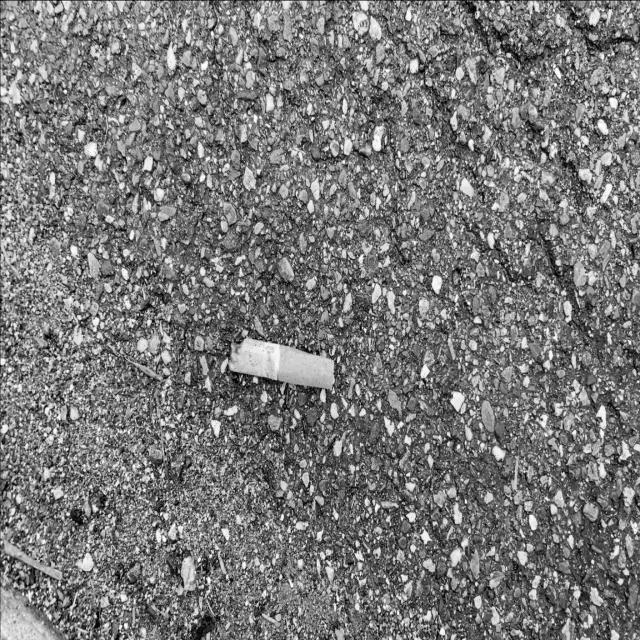other waste: (227, 334, 335, 392)
